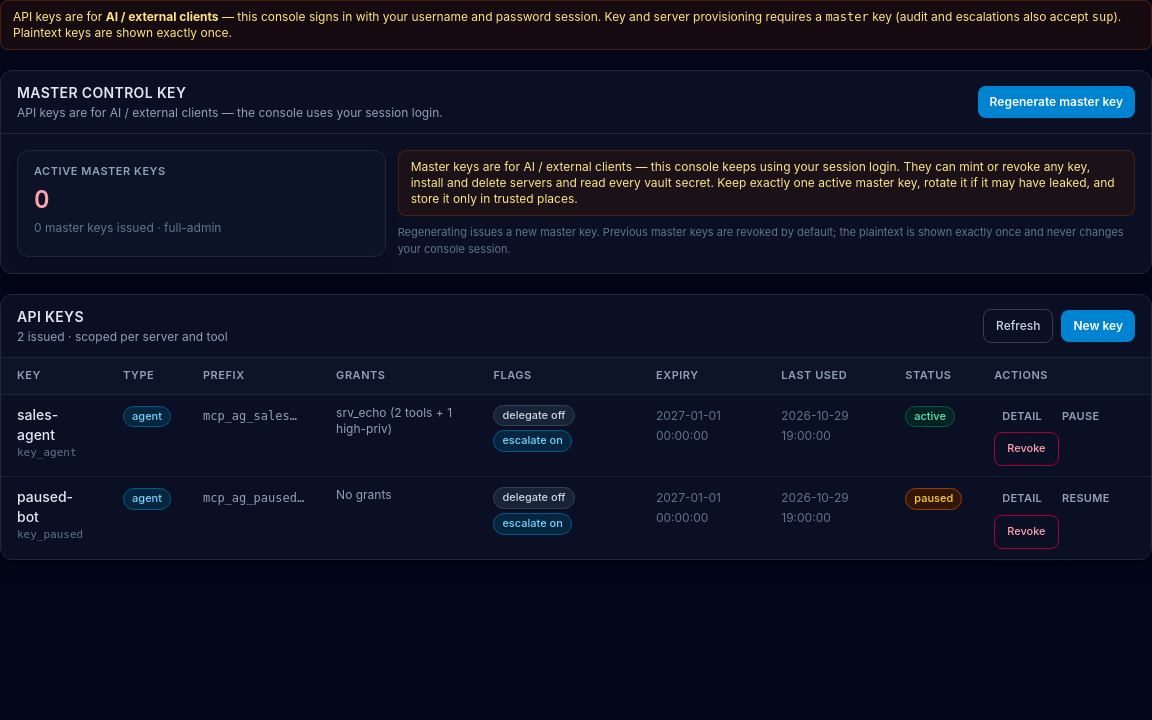
Test: Key detail drawer › opens from the key name and shows paused badges in the list
expect the text "paused" is shown: met, box [905,488,962,510]
Step 1. Click the button "sales-agent" → [54, 425], box [17,405,91,445]
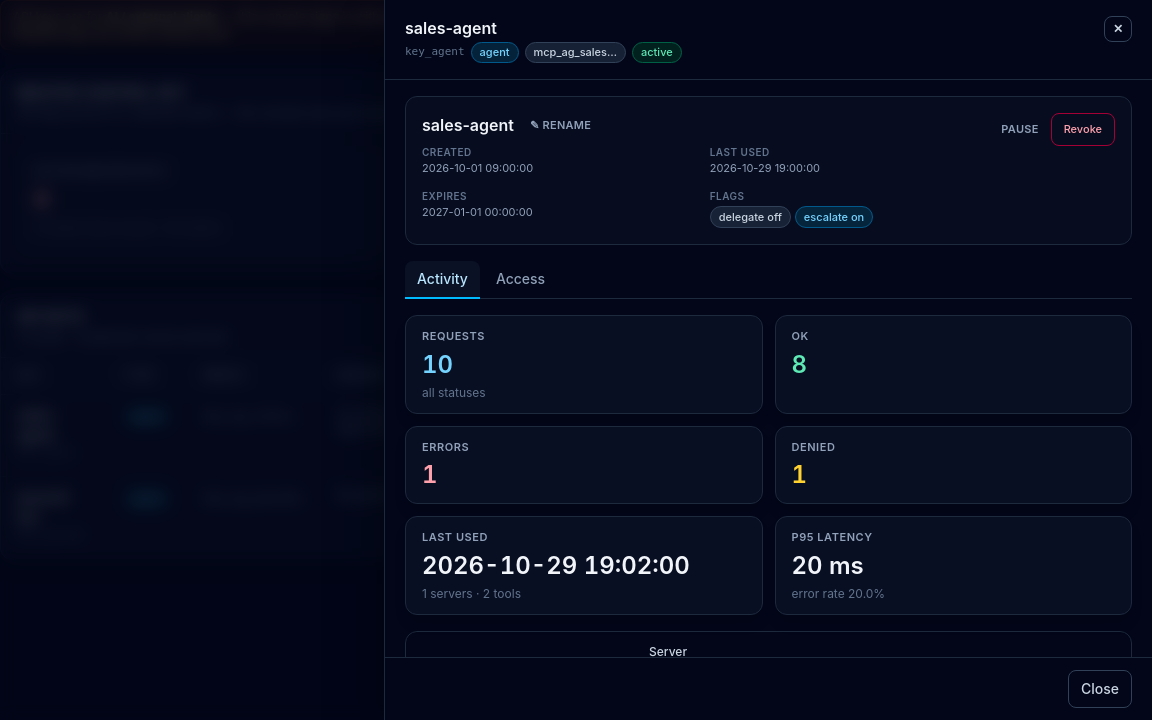
expect the tab "Activity" is shown: met, box [405,261,480,299]
expect the tab "Access" is shown: met, box [484,261,557,299]
expect the text "Requests" is shown: met, box [422,329,485,343]
